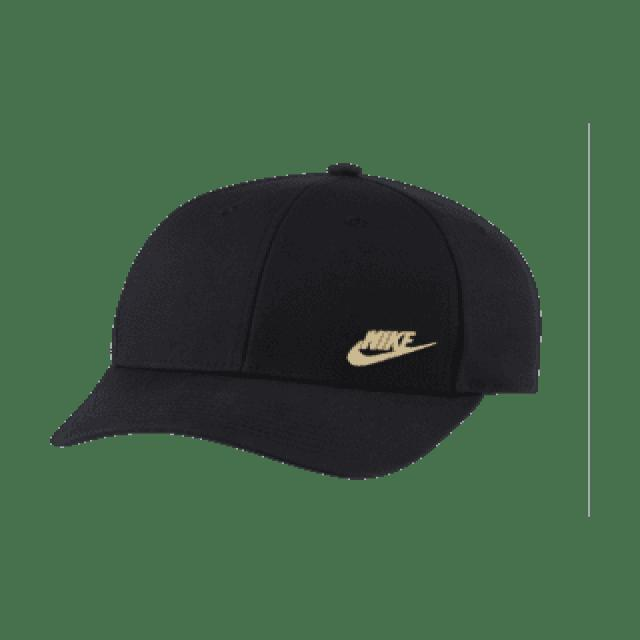mask: (59, 159, 544, 468)
